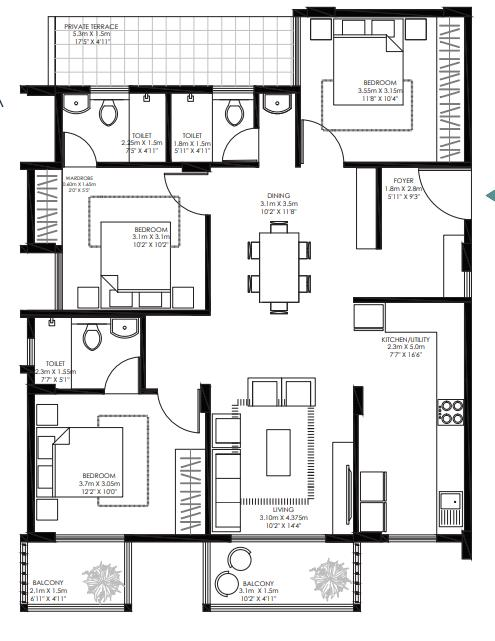Balcony: (210, 539, 352, 606), (27, 544, 124, 609)
Bed: (99, 222, 179, 310), (36, 423, 127, 500), (333, 17, 405, 107)
Bedroom: (34, 395, 207, 533), (64, 170, 209, 313), (298, 17, 435, 162)
Dining Room: (213, 168, 352, 373)
Dining table: (237, 212, 322, 324)
Foyer: (360, 170, 470, 298)
Kitchen: (356, 311, 464, 464)
Living Room: (210, 372, 350, 541)
Sofa: (212, 413, 244, 535), (246, 376, 314, 410)
Terrace: (58, 17, 295, 89)
Wardrobe: (437, 19, 465, 161), (177, 451, 206, 536), (29, 171, 61, 246)
commode: (82, 322, 101, 350), (101, 100, 117, 126), (225, 102, 243, 125)
door: (419, 167, 472, 223), (160, 169, 209, 222), (159, 391, 202, 428), (220, 126, 258, 163), (63, 135, 98, 166), (106, 362, 137, 392)
sink: (439, 490, 461, 526), (110, 318, 137, 336), (264, 96, 291, 113), (63, 97, 92, 112)
stove: (437, 400, 463, 425)
toilet: (175, 96, 295, 161), (35, 318, 139, 391), (63, 94, 165, 165)
tv: (327, 446, 358, 531)
utility: (360, 467, 465, 533)
